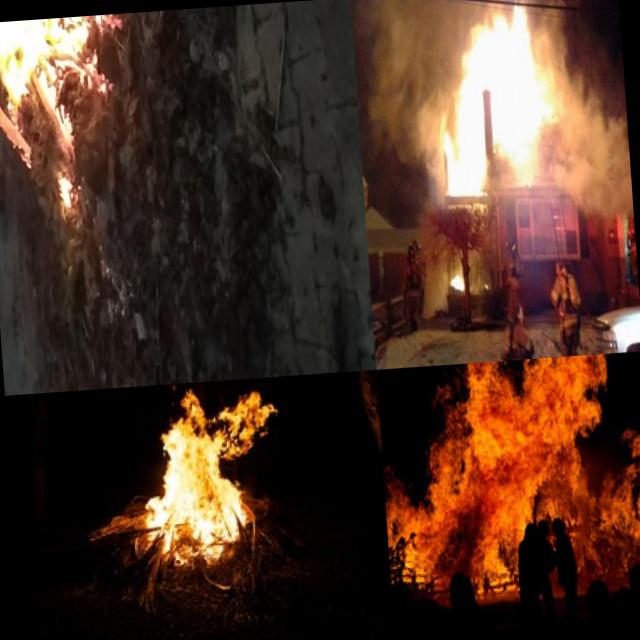fire: (377, 351, 640, 585), (0, 12, 163, 389), (128, 379, 288, 575), (481, 0, 546, 174), (432, 20, 488, 200), (447, 266, 467, 296)
smoke: (533, 0, 633, 222), (355, 0, 445, 213)
